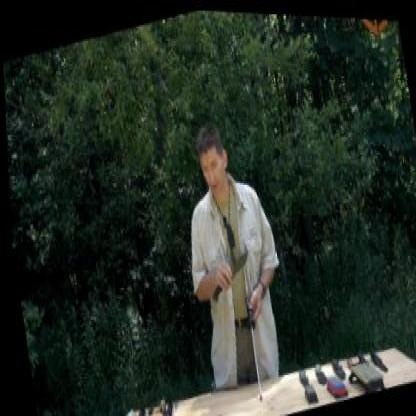knife: (202, 244, 251, 300)
